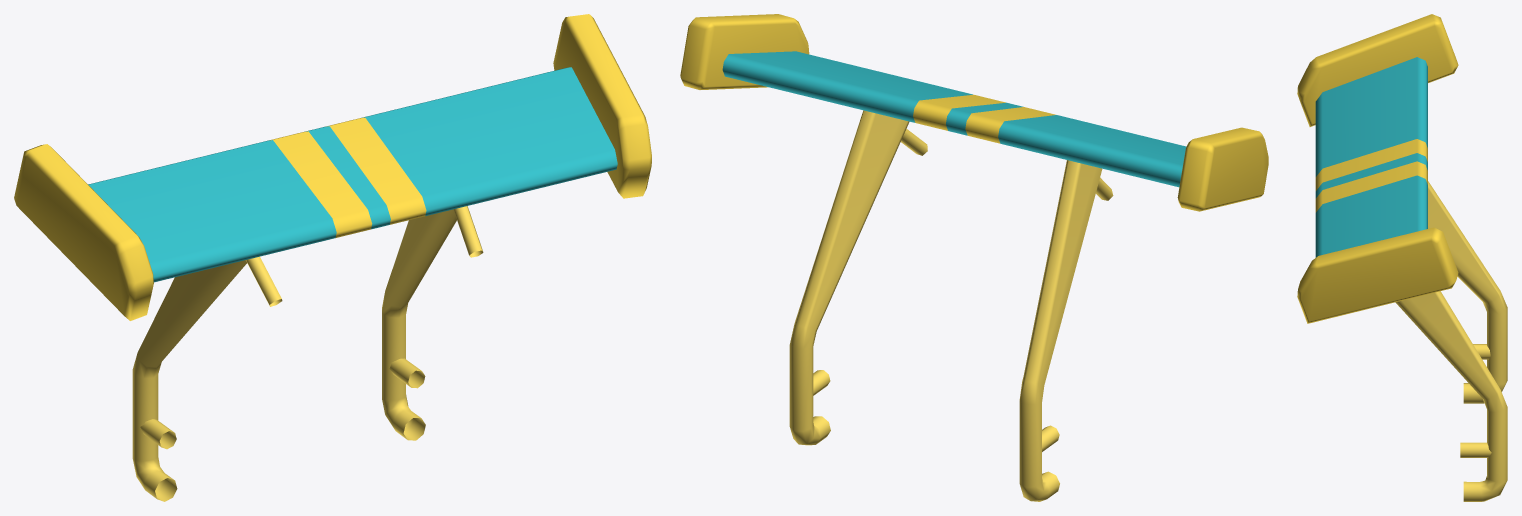
The model's file is Car_14_Spoiler.fbx.
3 renders of one model, left to right at view 1: azimuth 30°, elevation 25°; view 2: azimuth 150°, elevation 25°; view 3: azimuth 270°, elevation 25°, orthographic. The views are drawn at different scales.
Parts seen in each view (by area): view 1: Car_14_Spoiler; view 2: Car_14_Spoiler; view 3: Car_14_Spoiler.
Part boxes in pixels (x1,y1,x2,y2): Car_14_Spoiler: (14, 14, 651, 501); Car_14_Spoiler: (680, 14, 1268, 501); Car_14_Spoiler: (1297, 14, 1507, 501).
Bounding box in the file's own units: 191 × 75.47 × 130.
